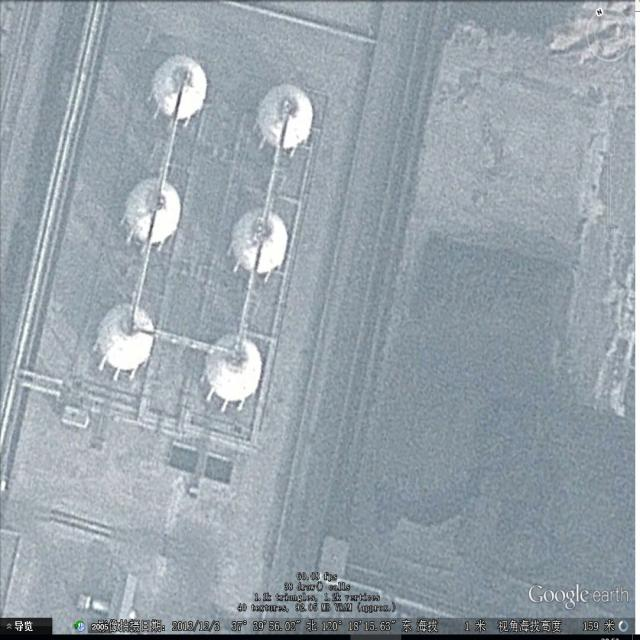oiltank: (206, 328, 267, 407), (122, 175, 183, 250), (97, 302, 158, 376), (232, 203, 292, 276), (149, 51, 210, 122), (258, 80, 317, 149)
